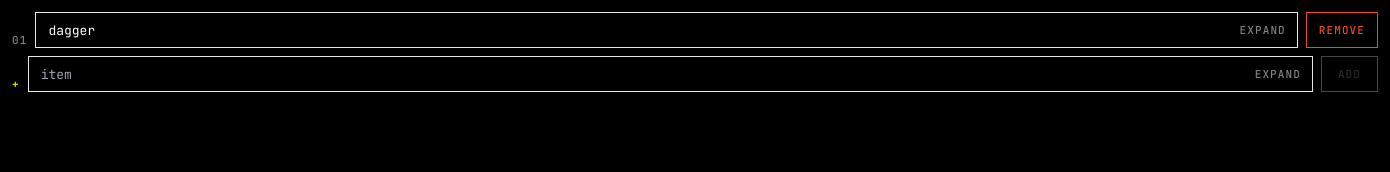
Test: StringListEditor › adds a new independent item
The image size is (1390, 172).
Type "torch" into the field with placeholder "item" at (670, 74), box x1=28 y1=56 x2=1313 y2=92
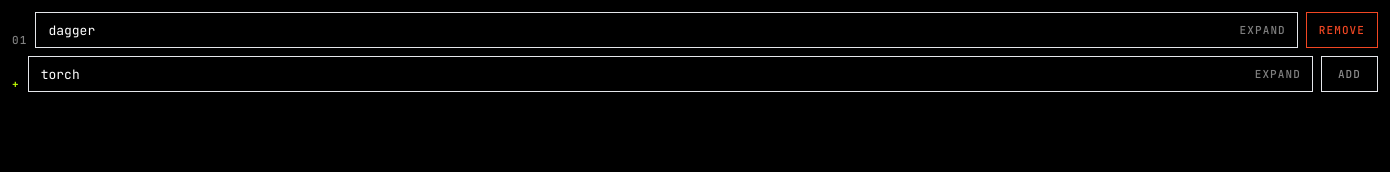
Click the button "add" at (1349, 74), box x1=1321 y1=56 x2=1378 y2=92
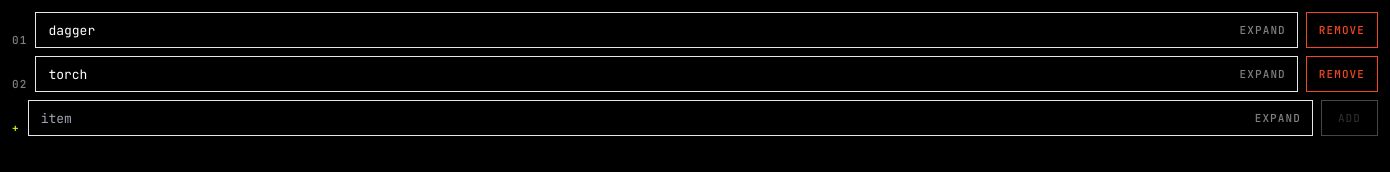
Expected: the field showing "dagger" is shown, x1=35 y1=12 x2=1298 y2=48
Expected: the number of fields is 3, x1=35 y1=12 x2=1298 y2=48; x1=35 y1=56 x2=1298 y2=92; x1=28 y1=100 x2=1313 y2=136
Expected: the field showing "torch" is shown, x1=35 y1=56 x2=1298 y2=92
